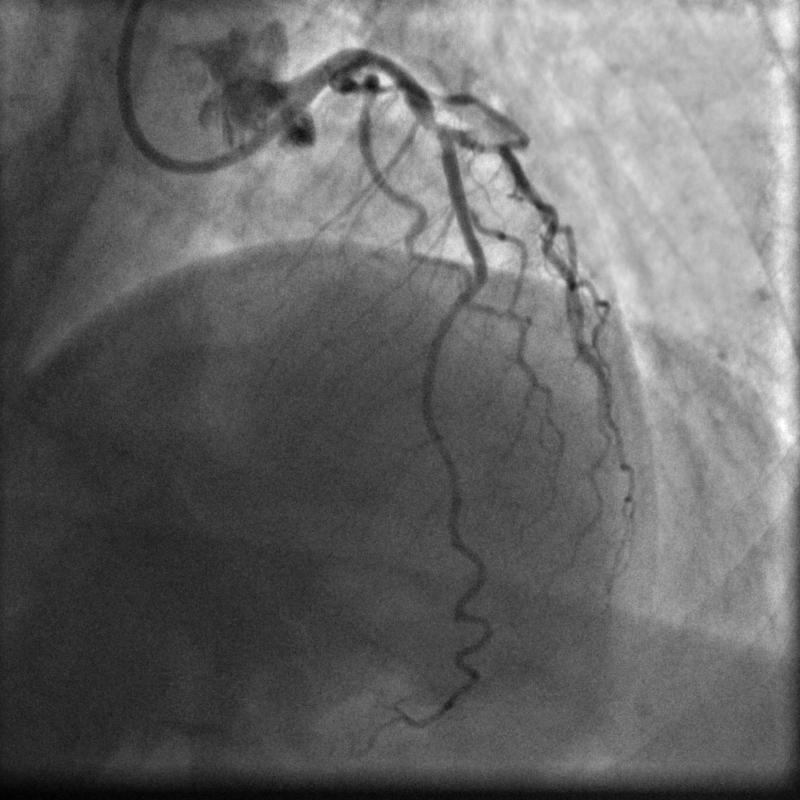Stenosis: (412, 110, 456, 133)
